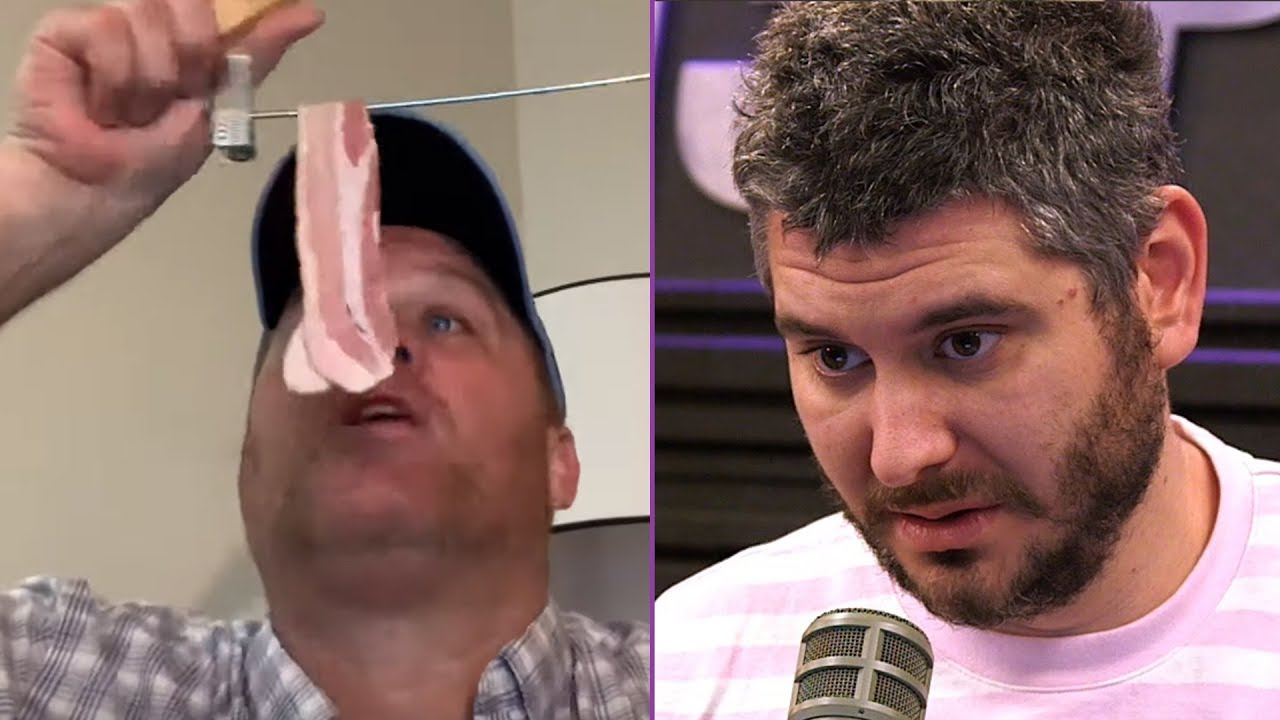bacon: (273, 94, 394, 409)
